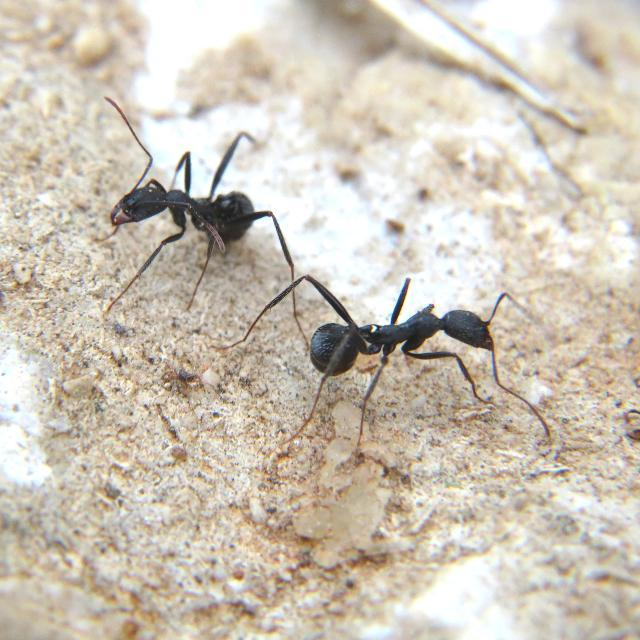Apheanogaster: (277, 268, 528, 416), (100, 123, 290, 277)
